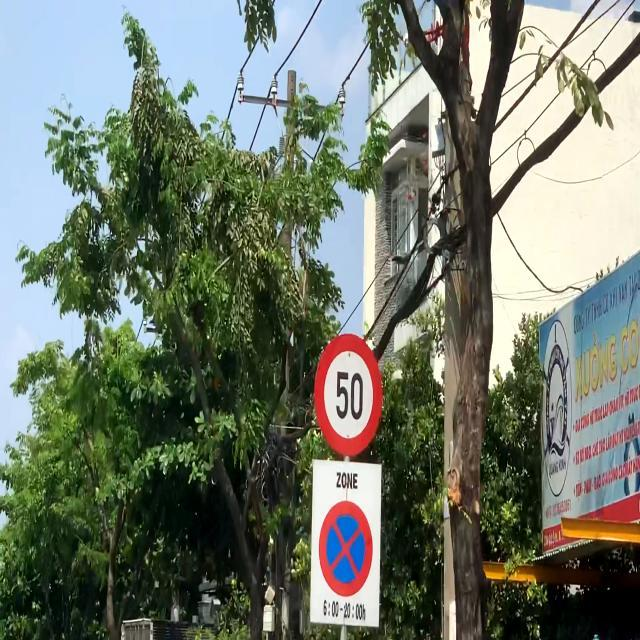P-127: (314, 333, 380, 455)
P-130: (319, 500, 373, 598)
